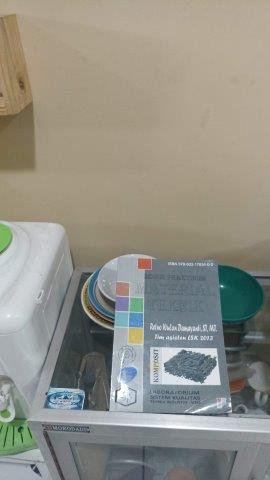kertas: (115, 256, 234, 415)
